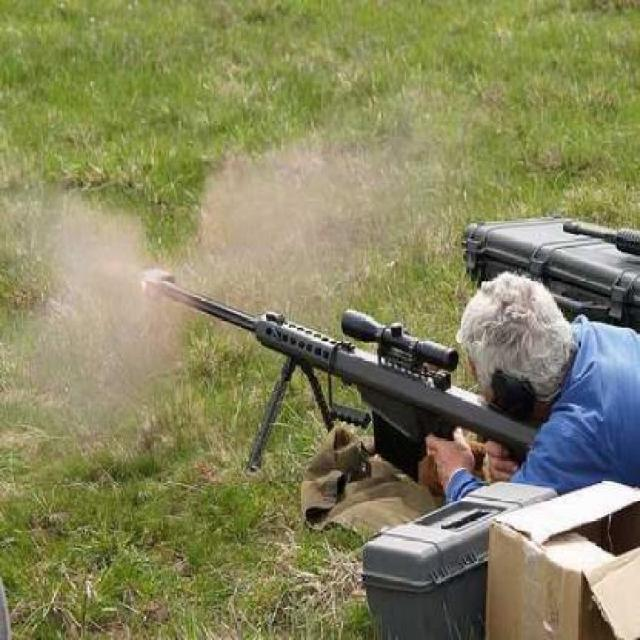weapon: (151, 276, 564, 489)
